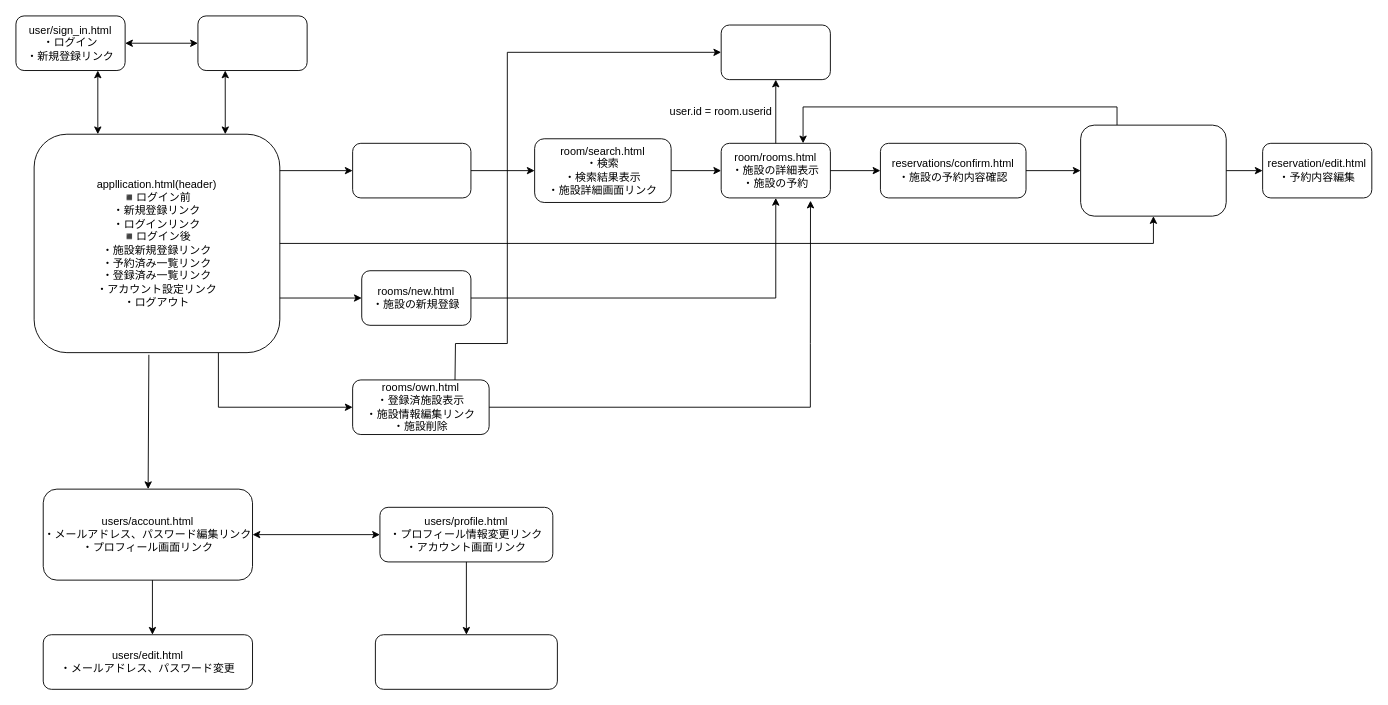
Some shapes in this 1388 by 705 pixel diagram are drawn without their labels. Here are the shapes that lost their labels. From the top down, the centre of each, then its label:
At (252,43): "user/sign_up.html ・ログインリンク ・新規登録".
At (775,52): "rooms/edit.html ・施設情報編集".
At (411,170): "home.html ・検索 ・検索ショートカット".
At (1153,170): "reservation/own.html ・予約済み一覧表示 ・予約内容編集リンク ・予約キャンセル".
At (465,661): "users/profile/edit.html ・プロフィール変更".
